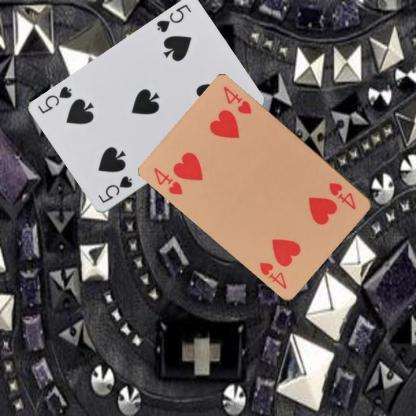4h: (152, 164, 184, 197), (326, 180, 358, 212)
5s: (95, 173, 134, 205), (154, 2, 192, 34)
